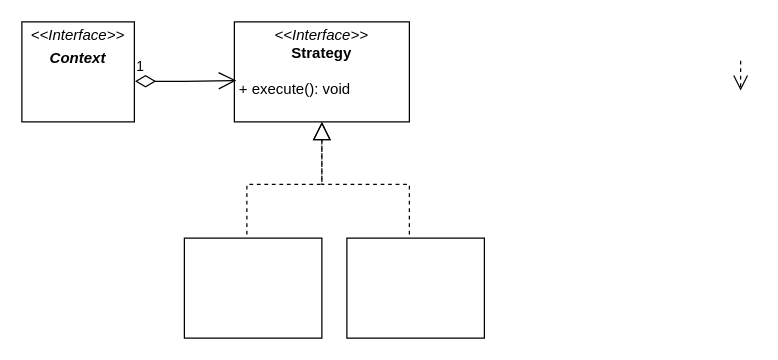
The diagram is 778 pixels wide and 360 high, and some of its shapes have lost their labels. Each missing label, with the box of its shape:
A Strategy + execute(): void: (183, 237, 322, 338)
B Strategy + execute(): void: (346, 237, 484, 338)
